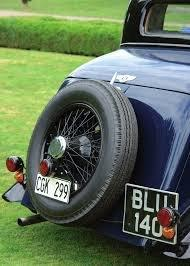license-plates: (36, 174, 70, 204)
